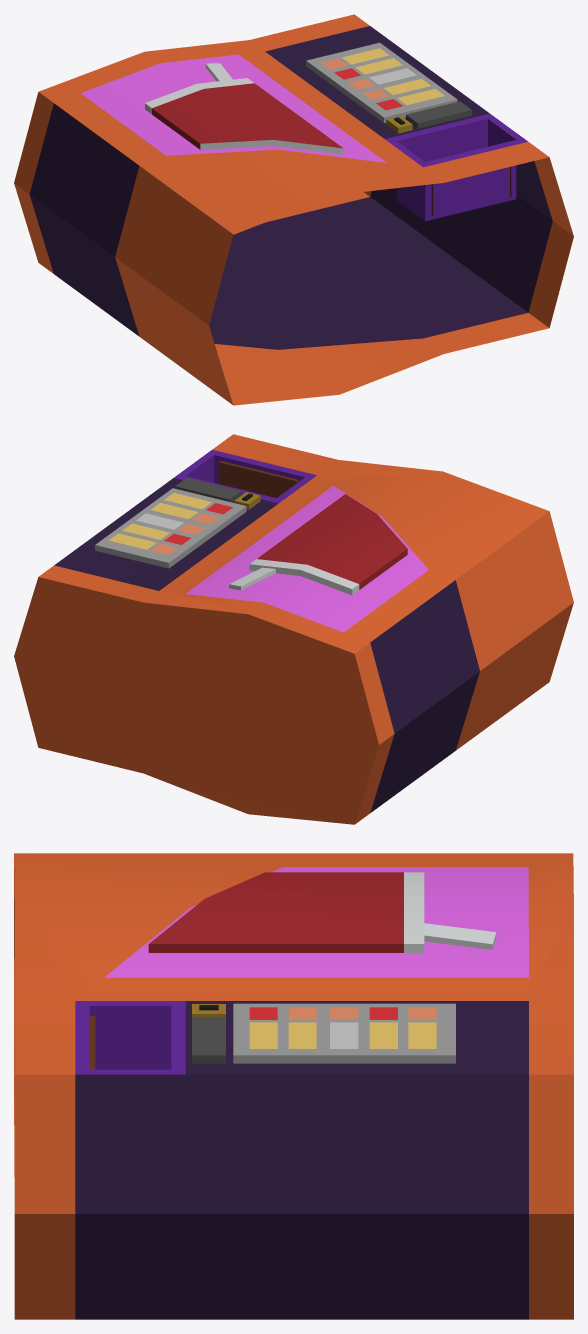
File: Vending Machine 01.FBX
3 renders of one model, top to bottom at view 1: azimuth 30°, elevation 25°; view 2: azimuth 150°, elevation 25°; view 3: azimuth 270°, elevation 25°, orthographic. The views are drawn at different scales.
Parts seen in each view (by area): view 1: Vending Machine 01; view 2: Vending Machine 01; view 3: Vending Machine 01.
Part boxes in pixels (bbox=[...]): Vending Machine 01: bbox=[14, 14, 573, 405]; Vending Machine 01: bbox=[14, 434, 573, 824]; Vending Machine 01: bbox=[14, 853, 573, 1319].
Size of the model in its own units: 249 by 134 by 230.
1 material, 1 textured.
